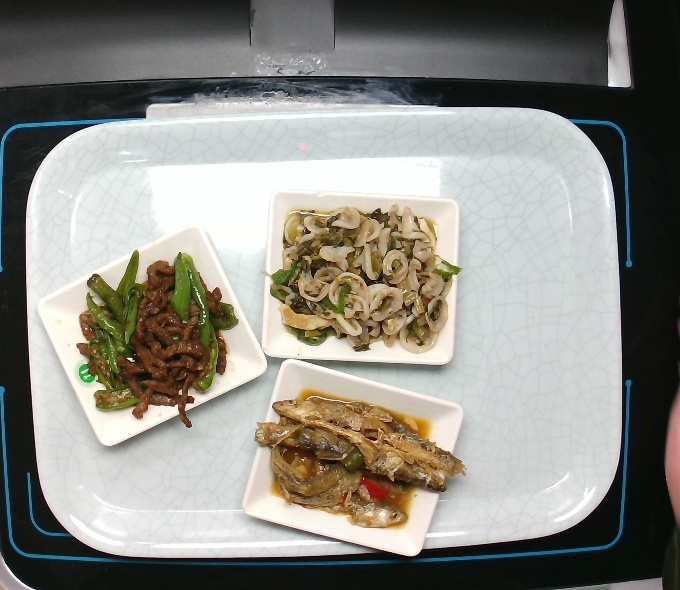wcq-QingJiaoNiuRou: (71, 246, 242, 434)
wcq-XiaoXiYu: (251, 388, 469, 532)
wcq-XueCaiYouYu: (254, 195, 464, 357)
